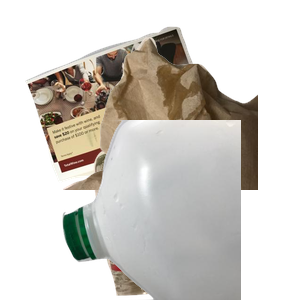glass: (91, 142, 260, 300)
paper: (23, 24, 232, 199)
plastic: (60, 120, 300, 300)
trash: (60, 35, 300, 215)
